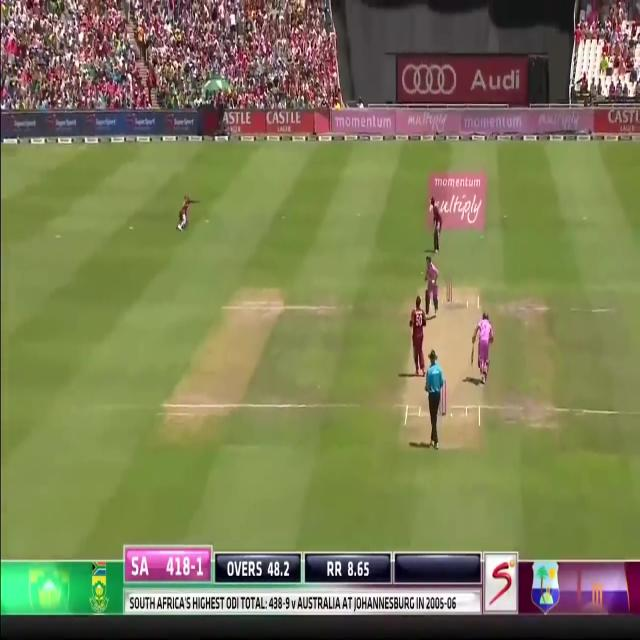Ball: (472, 309, 492, 384), (423, 255, 441, 317)
Fielder: (409, 296, 428, 371), (429, 194, 444, 252), (176, 195, 194, 232)
Umpire: (425, 345, 445, 451)
